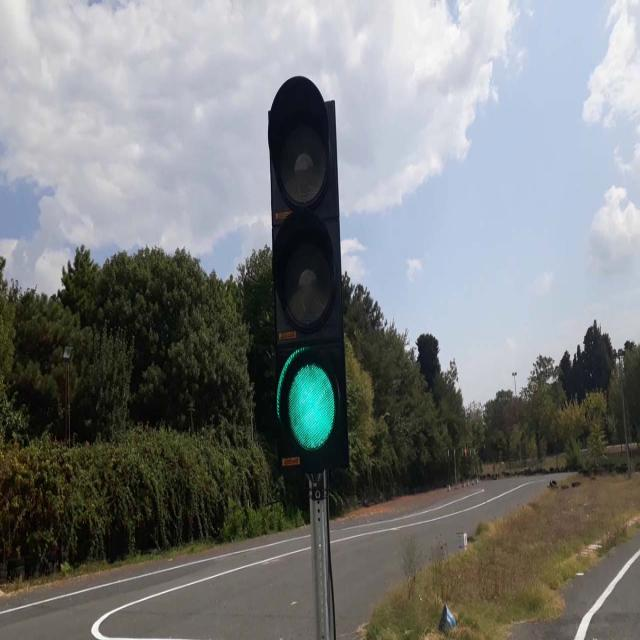yesil: (272, 80, 346, 463)
